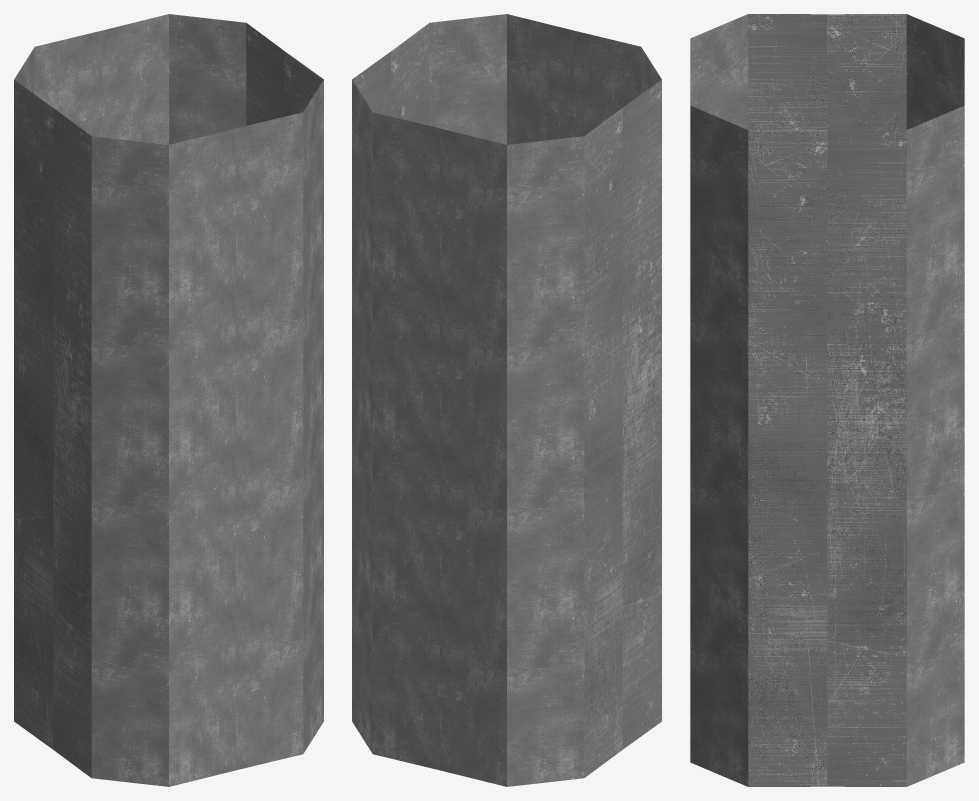
File: QuarantineWall-Connector-Pillar.obj
The picture shows the model from 3 angles, left to right: view 1: azimuth 30°, elevation 25°; view 2: azimuth 150°, elevation 25°; view 3: azimuth 270°, elevation 25°; orthographic projection. The views are drawn at different scales.
Parts seen in each view (by area): view 1: QuarantineWall-Connector-Pillar; view 2: QuarantineWall-Connector-Pillar; view 3: QuarantineWall-Connector-Pillar.
Part boxes in pixels (x1,y1,x2,y2): QuarantineWall-Connector-Pillar: [14, 14, 323, 786]; QuarantineWall-Connector-Pillar: [352, 14, 661, 786]; QuarantineWall-Connector-Pillar: [690, 14, 964, 786].
Size of the model in its own units: 1.52 by 4 by 1.52.
